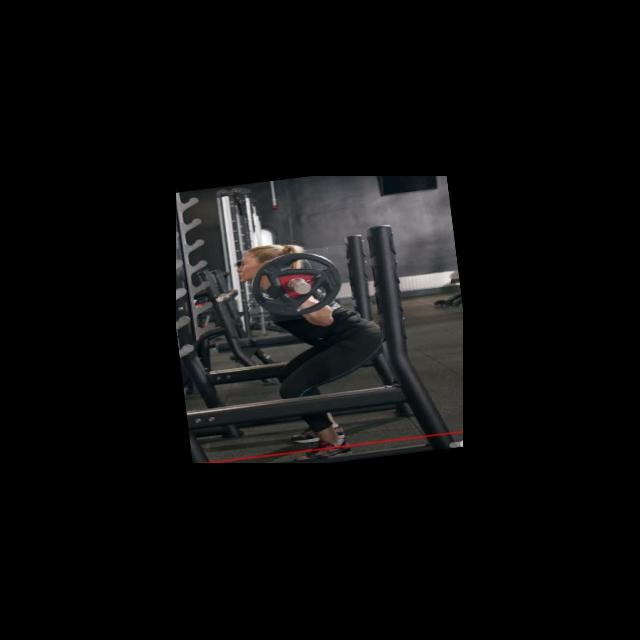barbell: (243, 245, 354, 326)
